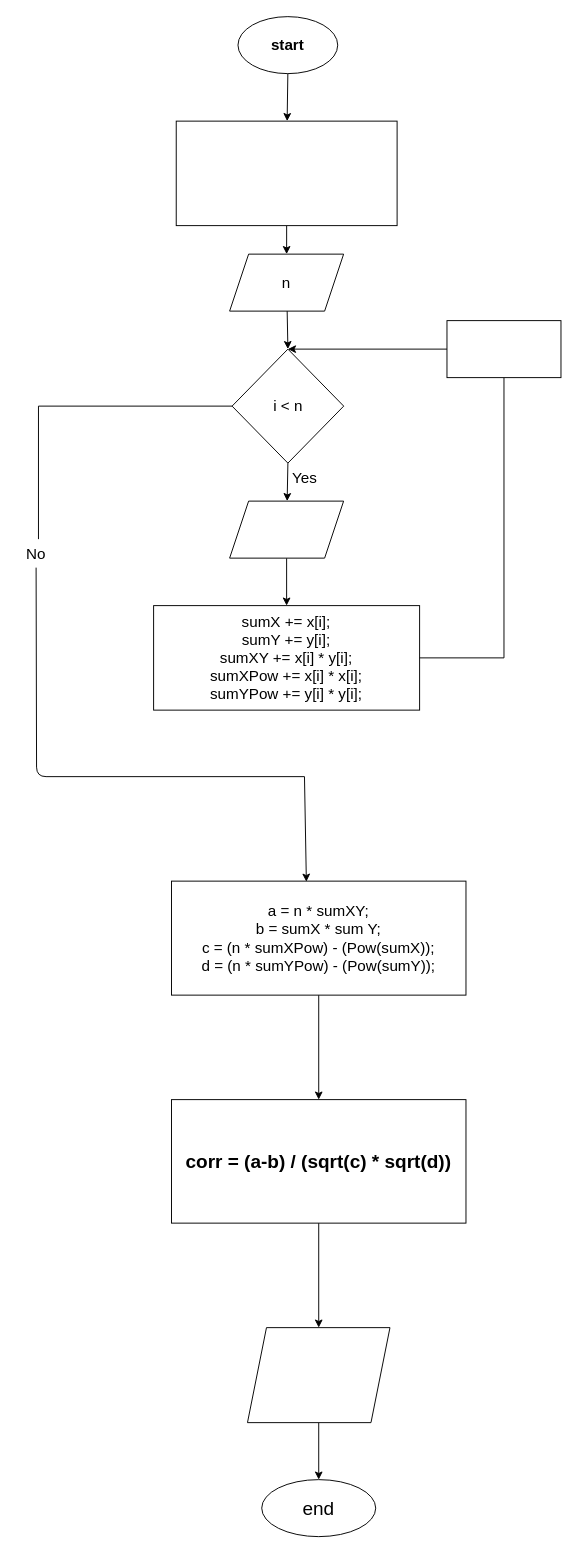
The diagram is 578 pixels wide and 1553 high, and some of its shapes have lost their labels. The centre of each missing label's shape, as x and y in pixels:
"corr" belongs at pixel 318 1375.
"i++" belongs at pixel 503 349.
"x=[]; y=[]; sumX, sumY,sumXY, sumXPow, sumYPow = 0 i,n,a,b,c,d,corr = 0;" belongs at pixel 286 173.
"x[i] y[i]" belongs at pixel 286 529.
